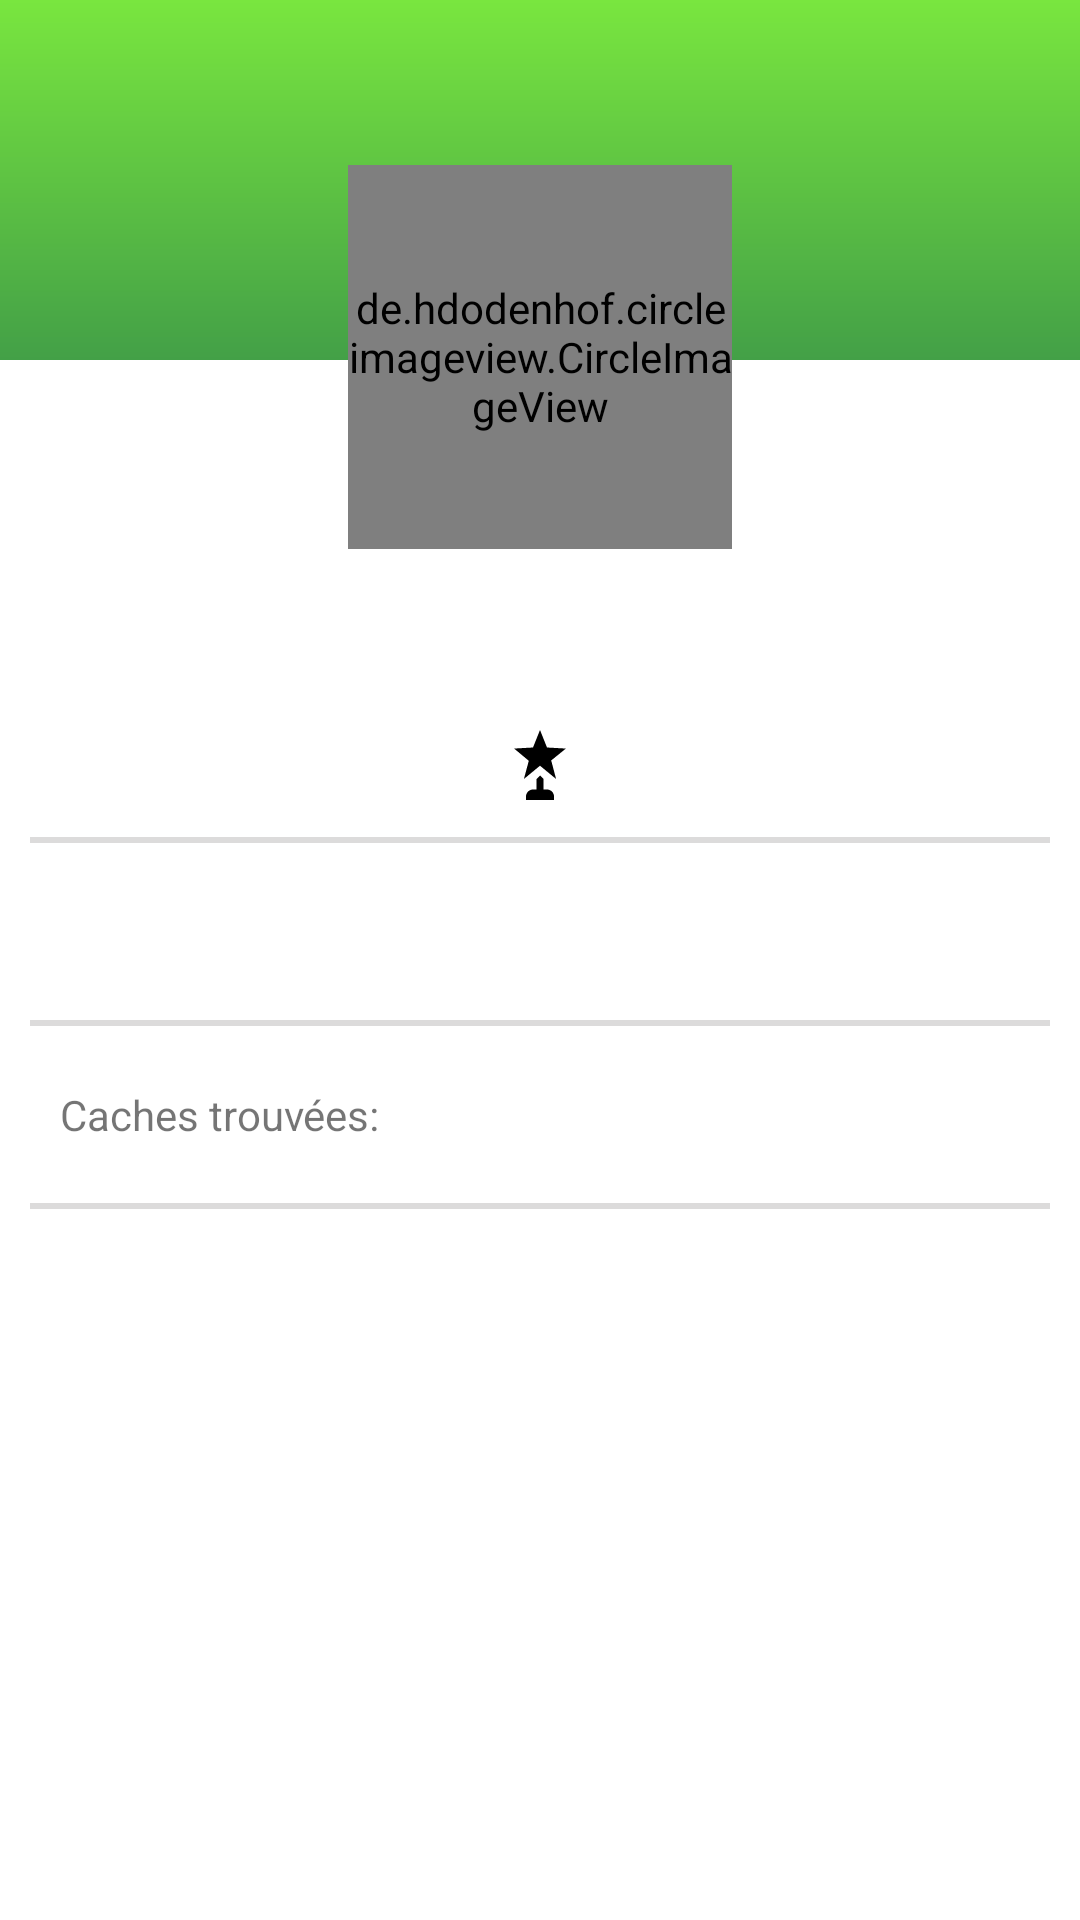

Point at icon controls on the screen. Image size 1080w x 1920h, points as (x,y).
award: (540,765)
